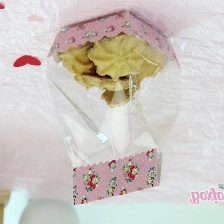snack: (38, 5, 188, 212)
